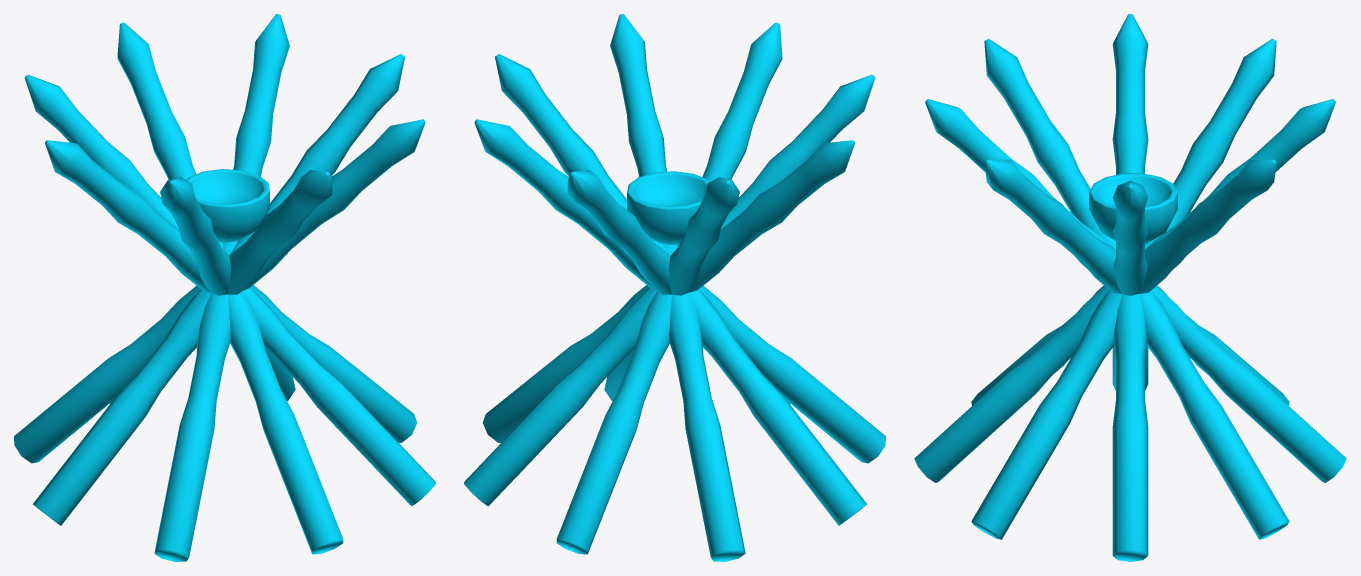
The model's file is FirePitFinal.fbx.
3 renders of one model, left to right at view 1: azimuth 30°, elevation 25°; view 2: azimuth 150°, elevation 25°; view 3: azimuth 270°, elevation 25°, orthographic.
Visible parts, largest first — view 1: Spike_low003, Spike_low007, Spike_low, Spike_low004, Spike_low005, Spike_low002, Spike_low001, FireBowl_low, Spike_low006; view 2: Spike_low003, Spike_low005, Spike_low001, Spike_low006, Spike_low007, Spike_low002, Spike_low, FireBowl_low, Spike_low004; view 3: Spike_low006, Spike_low004, Spike_low002, Spike_low, Spike_low001, Spike_low005, Spike_low007, Spike_low003, FireBowl_low.
Part boxes in pixels (box(x1,y1,x2,y2)): Spike_low003: box(33, 54, 404, 525); Spike_low007: box(154, 14, 289, 561); Spike_low: box(117, 22, 343, 554); Spike_low004: box(24, 74, 435, 506); Spike_low005: box(14, 119, 425, 463); Spike_low002: box(45, 140, 417, 442); Spike_low001: box(109, 170, 332, 403); FireBowl_low: box(186, 169, 269, 242); Spike_low006: box(160, 177, 295, 400); Spike_low003: box(495, 54, 866, 525); Spike_low005: box(610, 14, 745, 561); Spike_low001: box(556, 22, 782, 554); Spike_low006: box(464, 74, 875, 506); Spike_low007: box(474, 119, 885, 463); Spike_low002: box(482, 140, 854, 442); Spike_low: box(567, 170, 790, 403); FireBowl_low: box(627, 171, 709, 244); Spike_low004: box(604, 177, 739, 400); Spike_low006: box(984, 38, 1289, 539); Spike_low004: box(971, 38, 1276, 539); Spike_low002: box(1112, 14, 1148, 561); Spike_low: box(914, 99, 1335, 482); Spike_low001: box(925, 99, 1346, 482); Spike_low005: box(984, 159, 1289, 405); Spike_low007: box(971, 159, 1276, 405); Spike_low003: box(1112, 181, 1148, 390); FireBowl_low: box(1089, 173, 1177, 244).
Bounding box in the file's own units: 3779 × 3684 × 3779.
